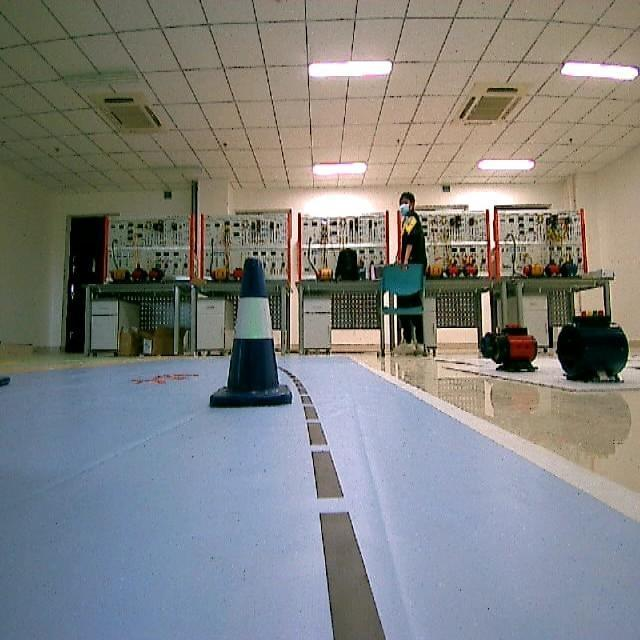obstacle: (205, 252, 296, 414)
